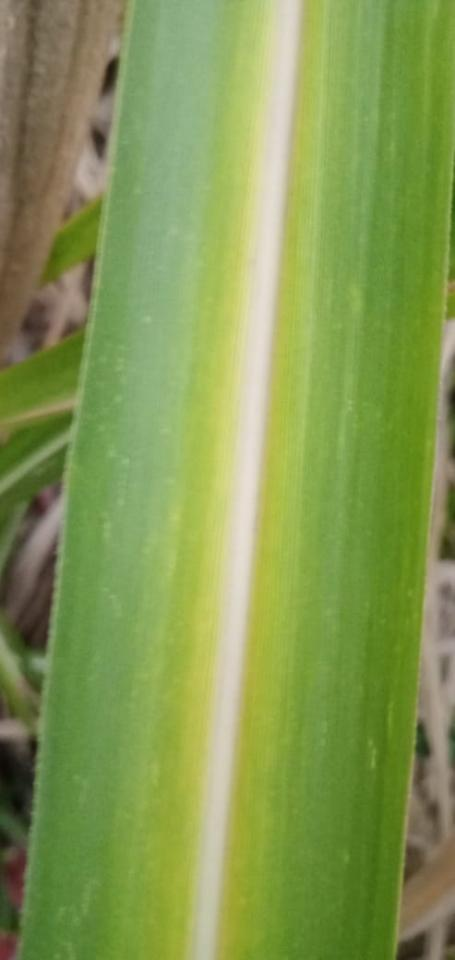Yellow: (218, 0, 324, 959), (171, 0, 276, 959)
